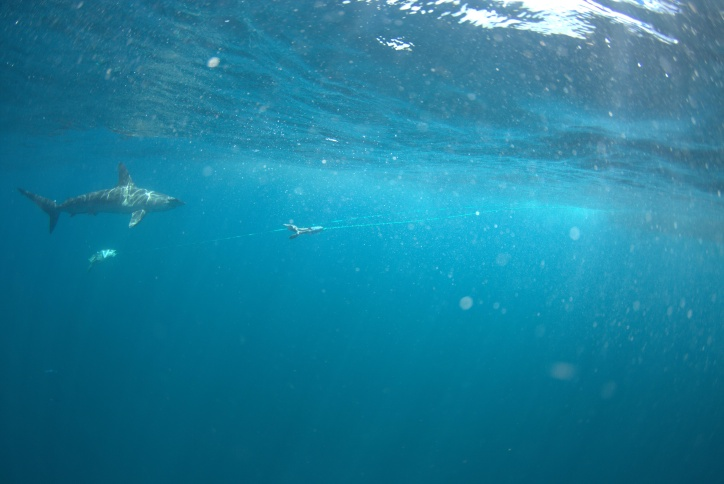Hammer: (9, 154, 211, 251)
